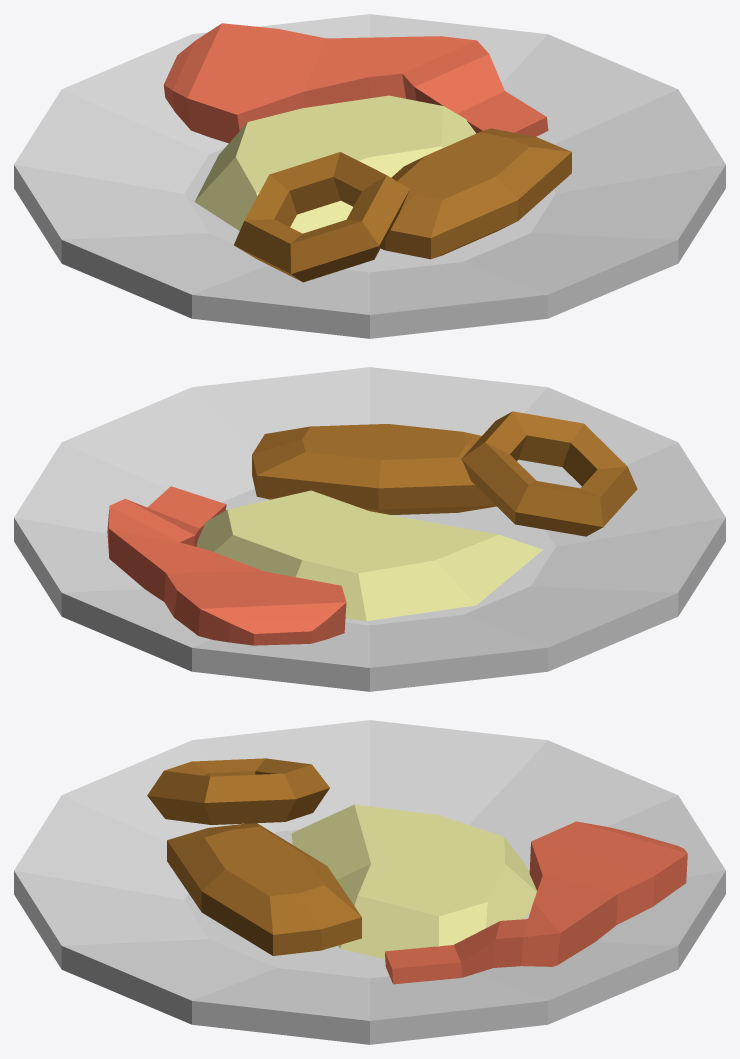
The model's file is Health.fbx.
The picture shows the model from 3 angles, top to bottom: view 1: azimuth 30°, elevation 25°; view 2: azimuth 150°, elevation 25°; view 3: azimuth 270°, elevation 25°; orthographic projection.
Parts seen in each view (by area): view 1: Cube; view 2: Cube; view 3: Cube.
Boxes of the visible parts, <box> form: Cube: <box>14,14,725,338</box>; Cube: <box>14,367,725,691</box>; Cube: <box>14,720,725,1044</box>.
Size of the model in its own units: 37.5 by 6.55 by 37.5.
